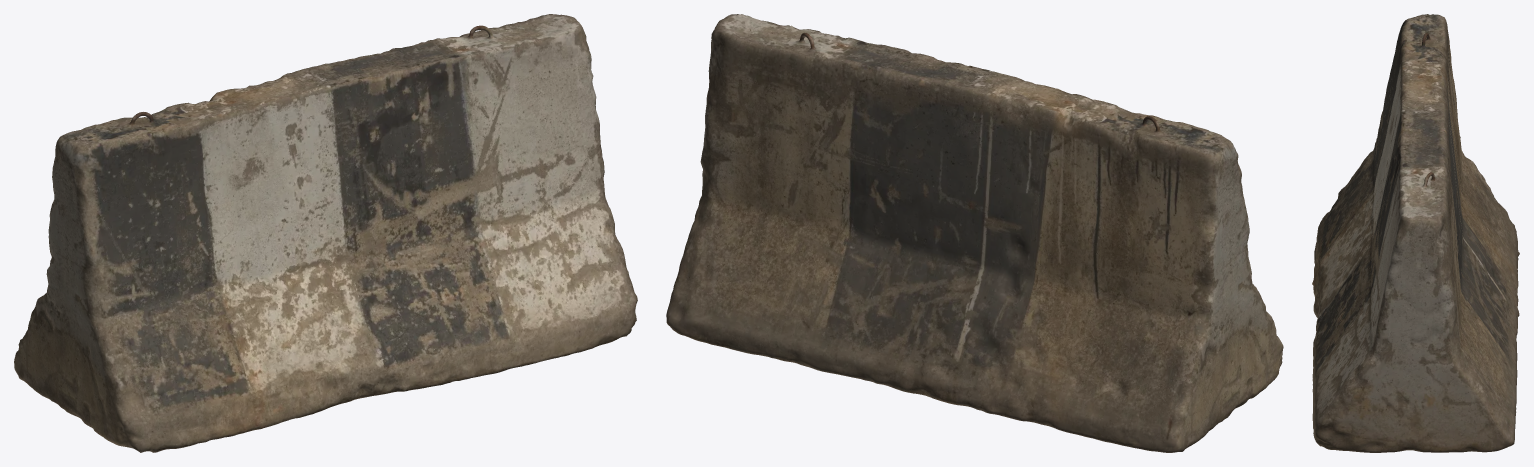
File: concrete_road_barrier.glb
3 renders of one model, left to right at view 1: azimuth 30°, elevation 25°; view 2: azimuth 150°, elevation 25°; view 3: azimuth 270°, elevation 25°, orthographic. The views are drawn at different scales.
Visible parts, largest first — view 1: concrete_road_barrier; view 2: concrete_road_barrier; view 3: concrete_road_barrier.
Boxes of the visible parts, x1,y1,x2,y2 form: concrete_road_barrier: [14, 14, 637, 452]; concrete_road_barrier: [666, 14, 1283, 452]; concrete_road_barrier: [1312, 14, 1519, 452].
Size of the model in its own units: 1.55 by 0.831 by 0.6388.
Materials: 1 (1 with a texture image).
